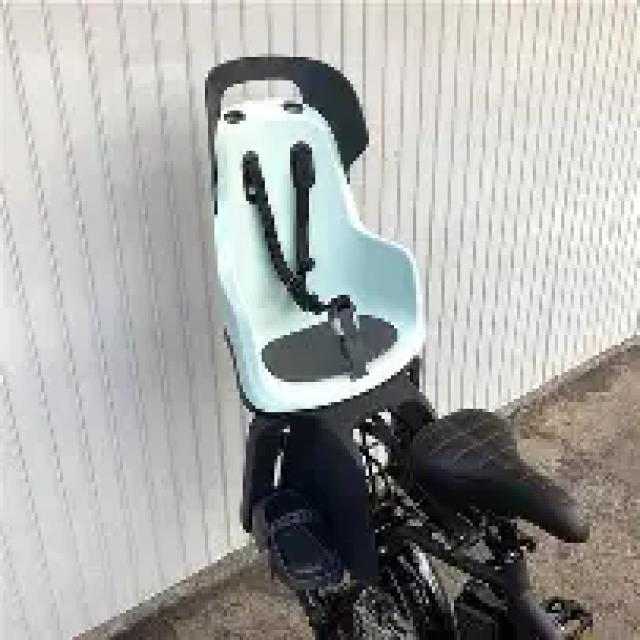childseat: (200, 50, 450, 578)
